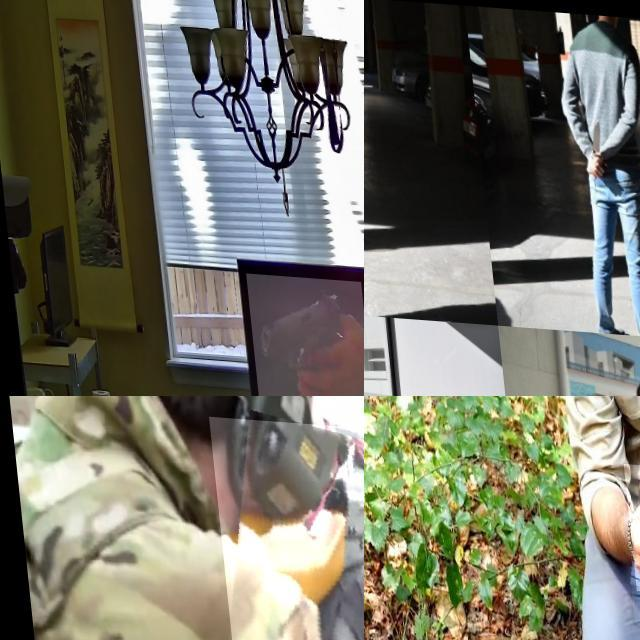-: (616, 459, 640, 589), (364, 77, 381, 146), (583, 109, 602, 157)
gun-knife-thesis - v11 Yolov5 augmented: (203, 413, 364, 640), (236, 269, 364, 396)
